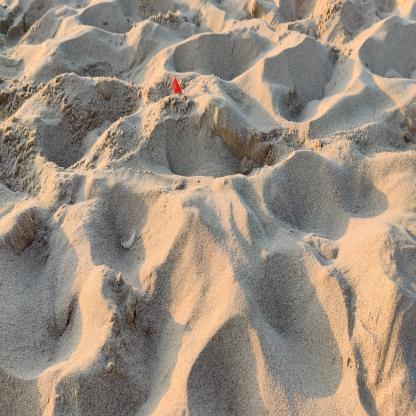trash: (170, 76, 184, 98)
